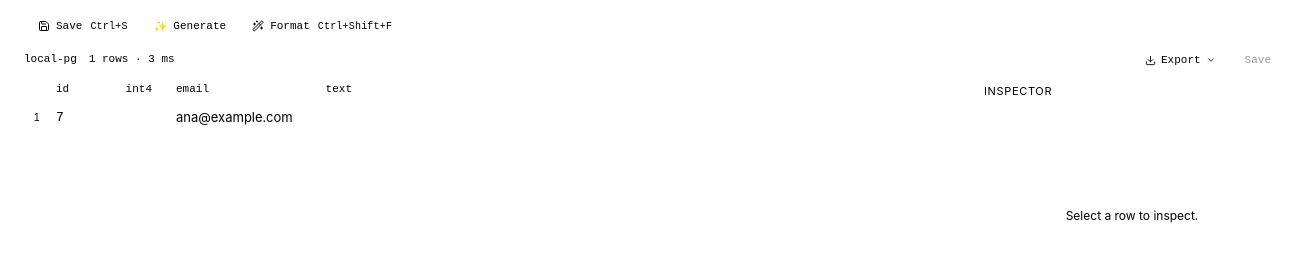
Test: QueryTab result-grid edits › keeps the buffer and shows a banner when an op fails
Expected: the element showing "1 7 ana@example.com" is shown, [34,104,293,130]
Double-click the element showing "ana@example.com" at x=234, y=117, box [176,109,293,125]
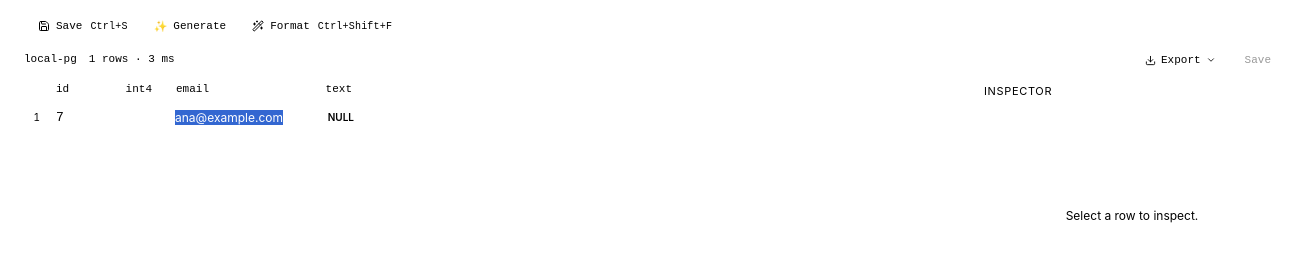
Replace the text in the field with "new@example.com" at x=241, y=117, box [164,104,318,130]
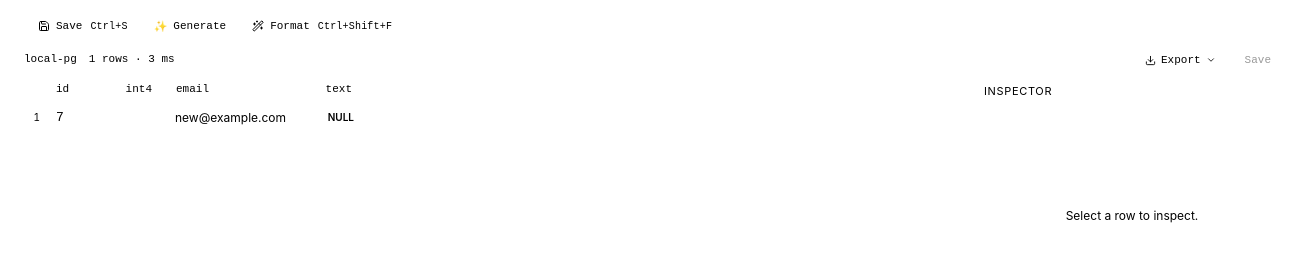
Press Enter in the field, box [164,104,318,130]
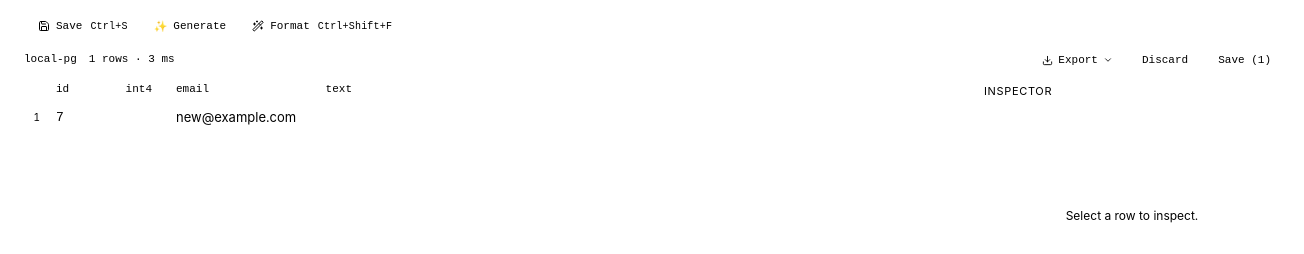
Click the button "Save (1)" at x=1245, y=60, box [1209,50,1280,70]
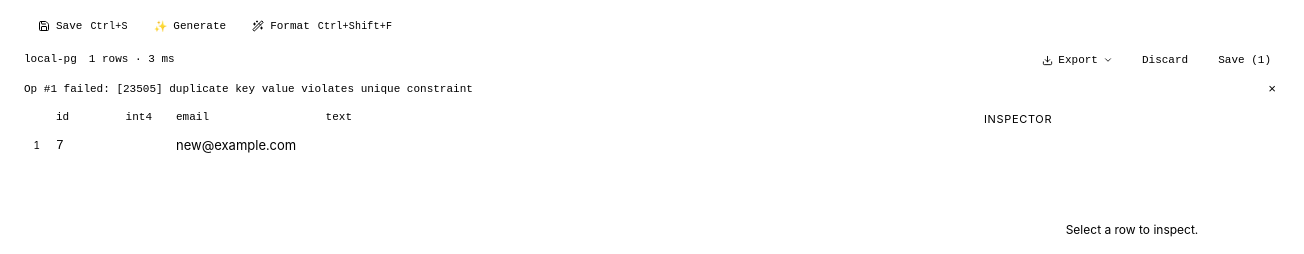
Expected: the button "Save (1)" is shown, [1209,50,1280,70]
Expected: the message shows "Op #1 failed: [23505] duplicate key value violates unique constraint", [24,83,473,95]
